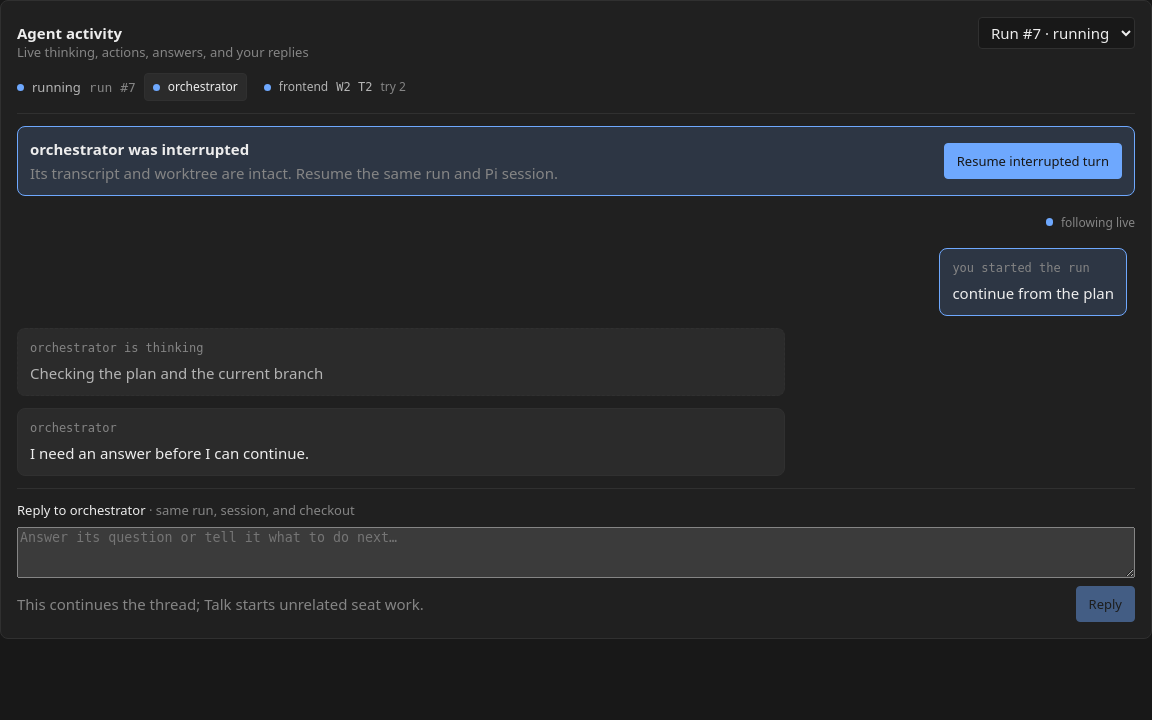
Test: reattaches an interrupted turn to its existing run, session, and checkout
The image size is (1152, 720).
Expected: the text "orchestrator was interrupted" is shown, [30,139,249,159]
Click the button "Resume interrupted turn" at (1033, 161), box [944,143,1122,179]
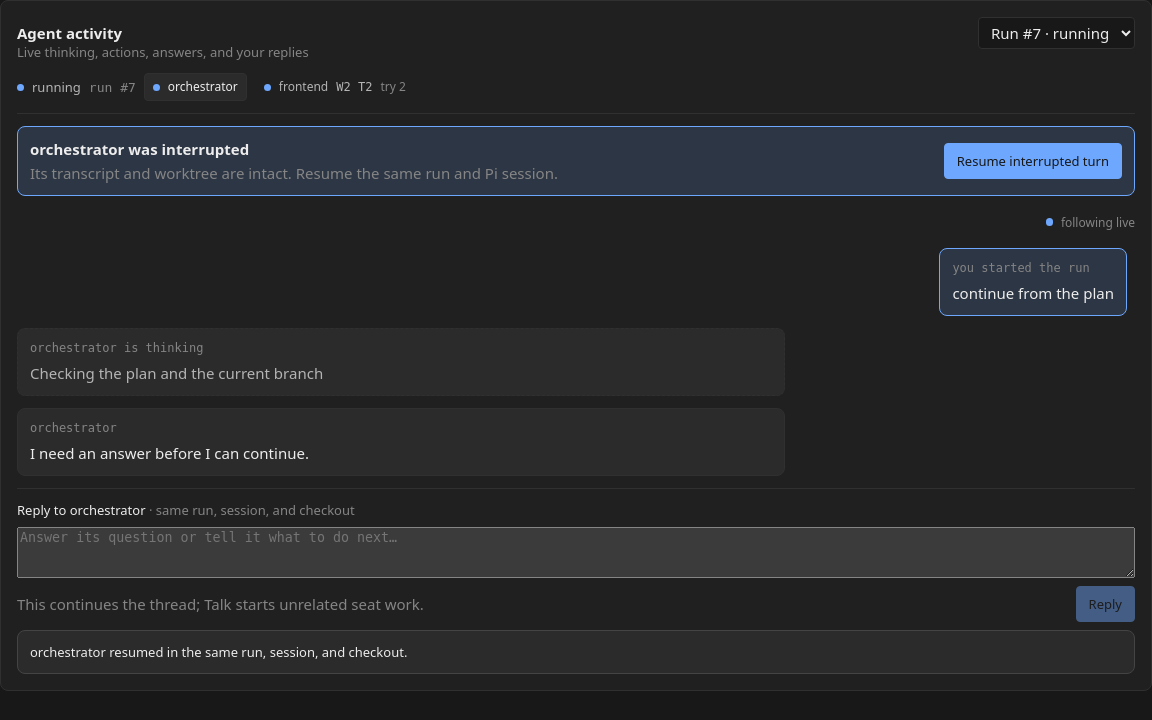
Expected: the text "orchestrator resumed in the same run, session, and checkout." is shown, [17,630,1135,674]
